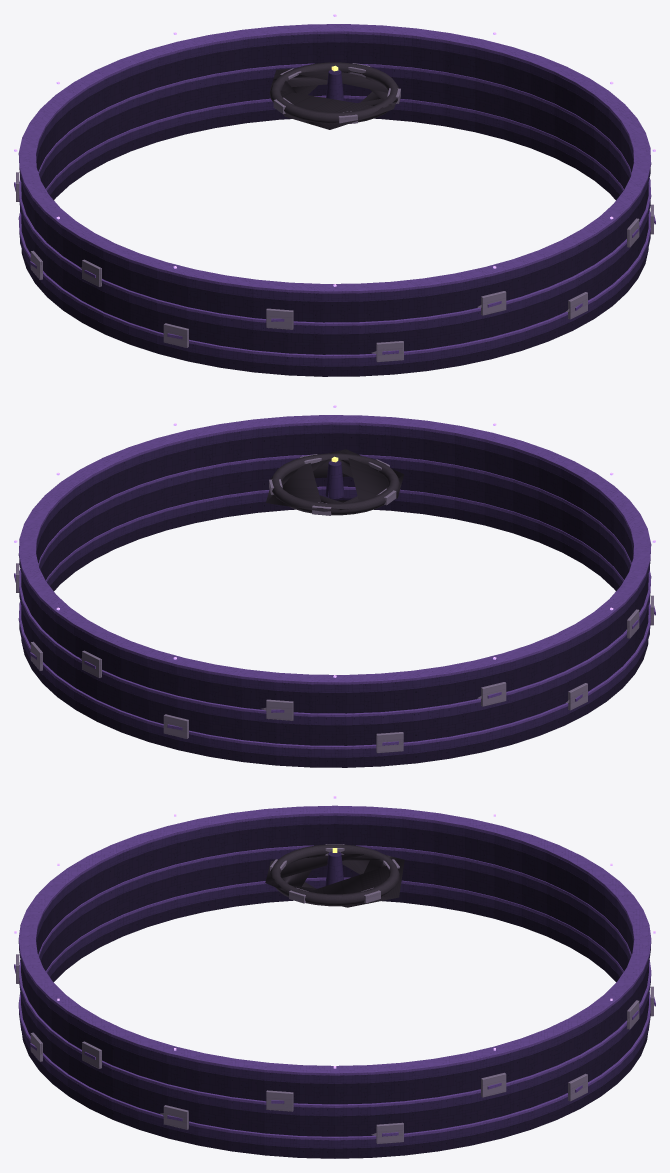
Rendered from var_station_kit_archive_v01.glb.
The picture shows the model from 3 angles, top to bottom: view 1: azimuth 30°, elevation 25°; view 2: azimuth 150°, elevation 25°; view 3: azimuth 270°, elevation 25°; orthographic projection.
Parts seen in each view (by area): view 1: LOD0_Armor, LOD0_Hull, LOD1_Armor, LOD0_Livery, LOD1_Hull, LOD1_Livery, LOD0_Ceramic, LOD1_Mechanical, LOD0_Mechanical; view 2: LOD0_Armor, LOD0_Hull, LOD1_Armor, LOD0_Livery, LOD1_Hull, LOD1_Livery, LOD0_Ceramic, LOD1_Mechanical, LOD0_Mechanical; view 3: LOD0_Armor, LOD1_Armor, LOD0_Hull, LOD0_Livery, LOD1_Hull, LOD1_Livery, LOD0_Ceramic, LOD1_Mechanical, LOD0_Mechanical.
Boxes of the visible parts, x1=… form: LOD0_Armor: x1=21, y1=42, x2=648, y2=376; LOD0_Hull: x1=19, y1=33, x2=650, y2=366; LOD1_Armor: x1=21, y1=42, x2=648, y2=376; LOD0_Livery: x1=14, y1=24, x2=655, y2=358; LOD1_Hull: x1=19, y1=34, x2=650, y2=366; LOD1_Livery: x1=18, y1=24, x2=650, y2=358; LOD0_Ceramic: x1=16, y1=63, x2=653, y2=362; LOD1_Mechanical: x1=270, y1=68, x2=397, y2=129; LOD0_Mechanical: x1=269, y1=62, x2=398, y2=122; LOD0_Armor: x1=21, y1=433, x2=648, y2=767; LOD0_Hull: x1=19, y1=424, x2=650, y2=757; LOD1_Armor: x1=21, y1=433, x2=648, y2=767; LOD0_Livery: x1=14, y1=415, x2=655, y2=749; LOD1_Hull: x1=19, y1=425, x2=650, y2=757; LOD1_Livery: x1=19, y1=415, x2=651, y2=749; LOD0_Ceramic: x1=16, y1=454, x2=653, y2=753; LOD1_Mechanical: x1=266, y1=449, x2=403, y2=511; LOD0_Mechanical: x1=271, y1=453, x2=400, y2=515; LOD0_Armor: x1=21, y1=824, x2=648, y2=1158; LOD1_Armor: x1=21, y1=824, x2=648, y2=1158; LOD0_Hull: x1=19, y1=815, x2=650, y2=1148; LOD0_Livery: x1=14, y1=805, x2=655, y2=1140; LOD1_Hull: x1=19, y1=815, x2=650, y2=1148; LOD1_Livery: x1=18, y1=806, x2=651, y2=1140; LOD0_Ceramic: x1=16, y1=844, x2=653, y2=1143; LOD1_Mechanical: x1=265, y1=854, x2=404, y2=907; LOD0_Mechanical: x1=270, y1=844, x2=399, y2=906.
Size of the model in its own units: 108 by 32.88 by 108.
Materials: 7 (5 with a texture image).
